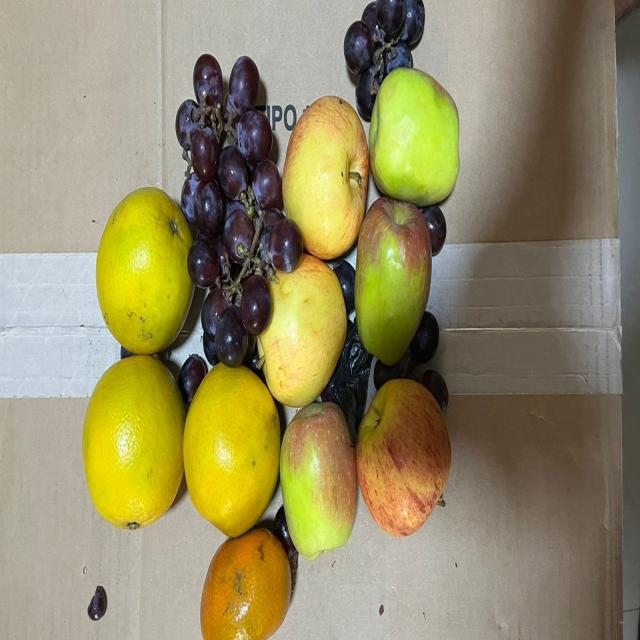bolsa_negra: (333, 322, 374, 450)
